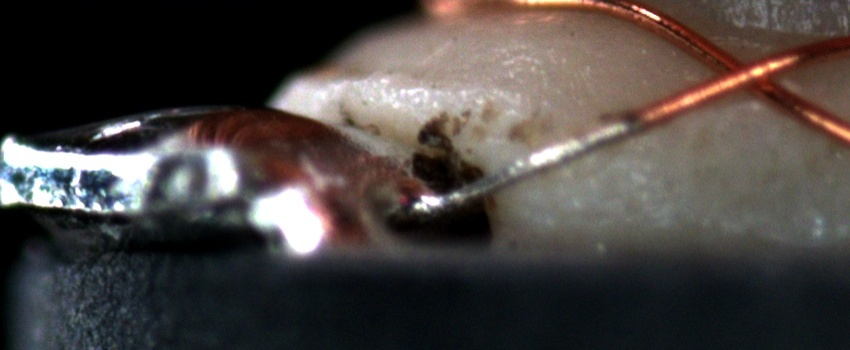CL: (694, 43, 797, 105)
TS: (413, 113, 640, 216)
